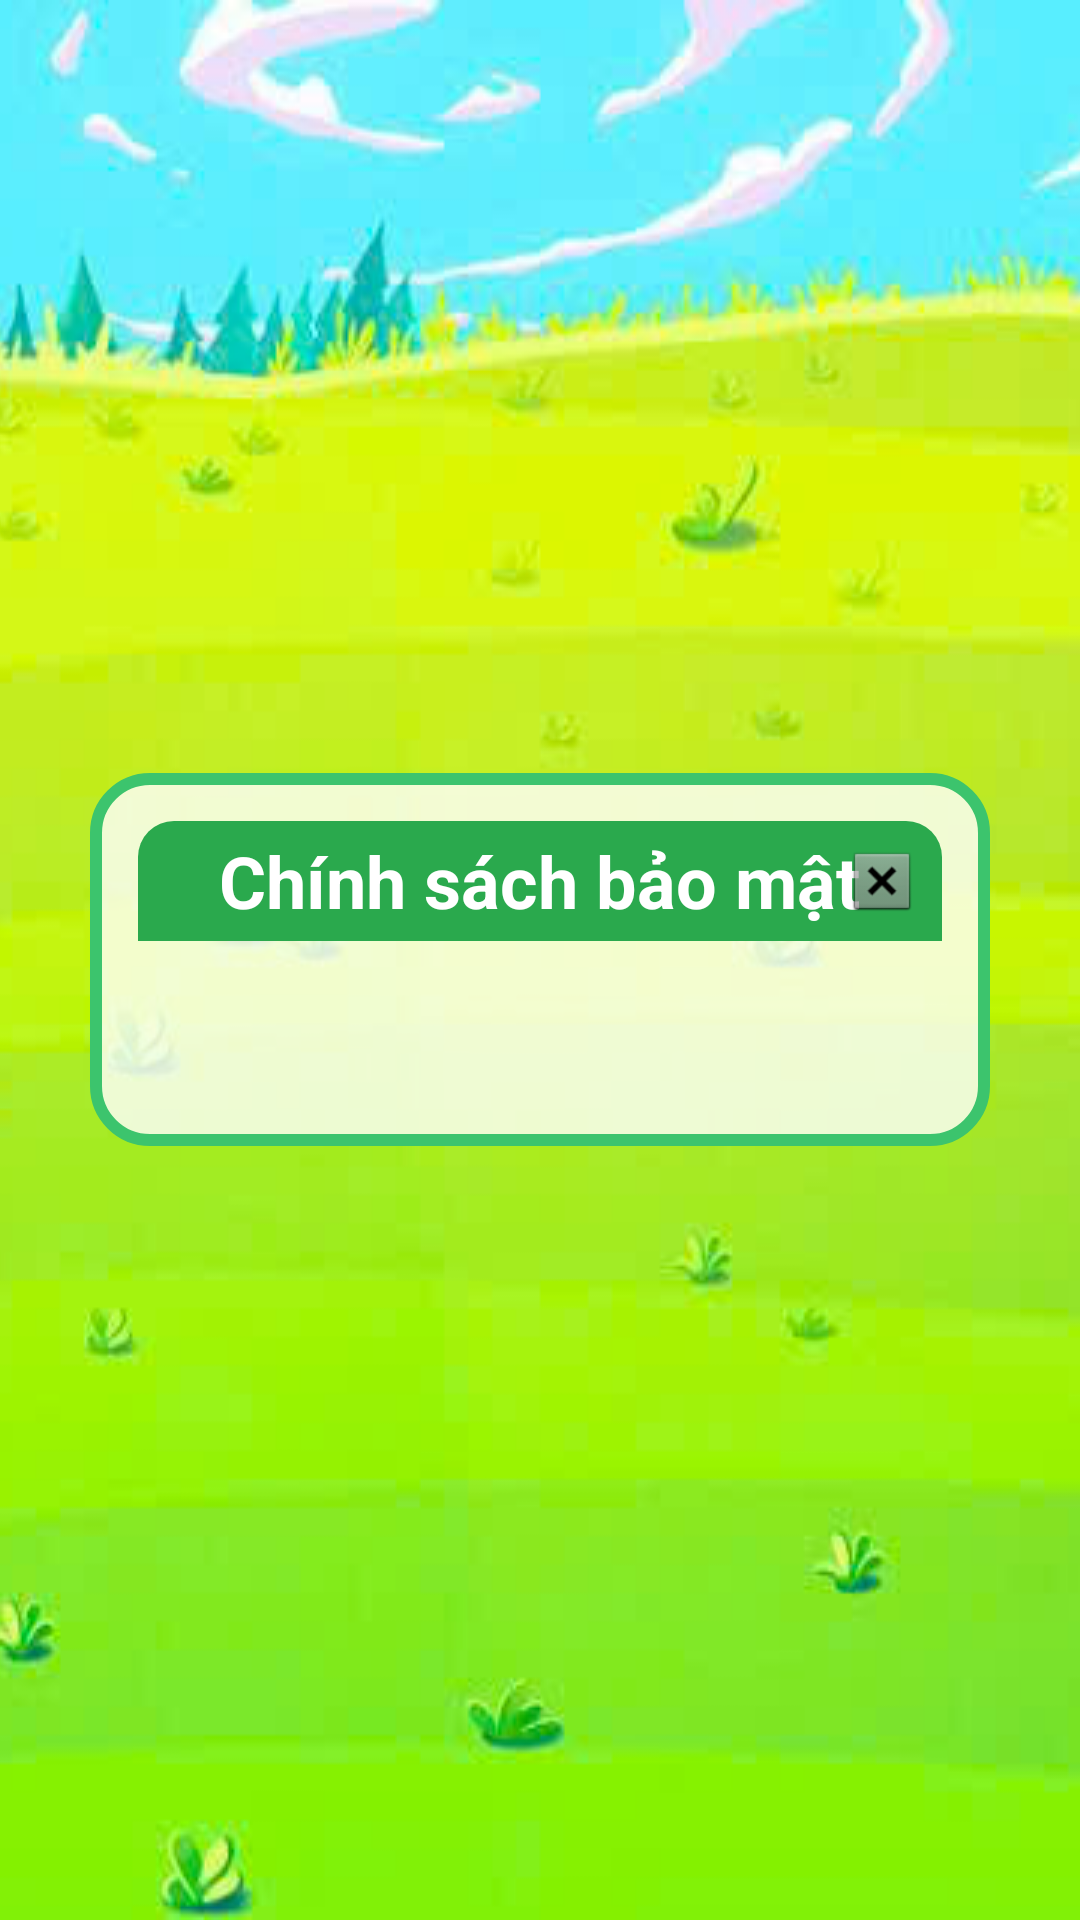

Icons on this 1080 × 1920 Android screen, each with its box as (x1, y1, x2, y2):
Close: (846, 853, 911, 910)
